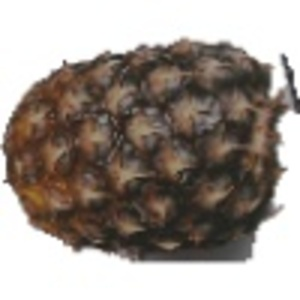abacaxi: (1, 33, 275, 252)
